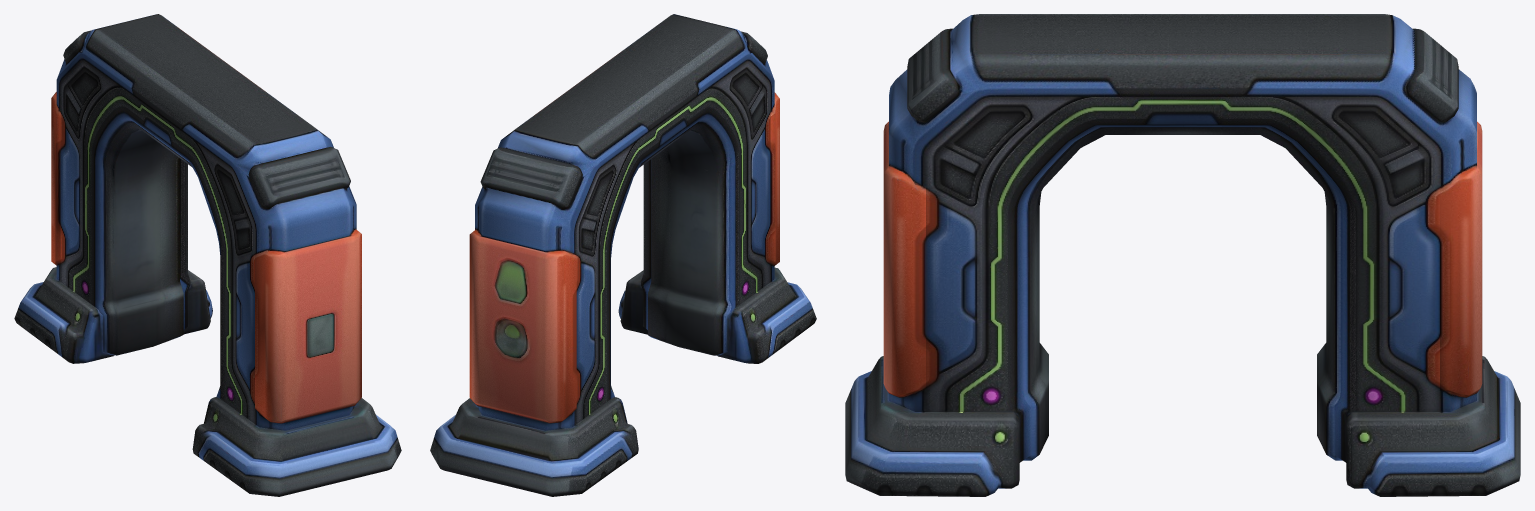
The model's file is tripo_convert_02717a75-bd4c-451a-a5d2-ba9a7d107b7e.fbx.
The picture shows the model from 3 angles, left to right: view 1: azimuth 30°, elevation 25°; view 2: azimuth 150°, elevation 25°; view 3: azimuth 270°, elevation 25°; orthographic projection. The views are drawn at different scales.
Parts seen in each view (by area): view 1: tripo_node_02717a75; view 2: tripo_node_02717a75; view 3: tripo_node_02717a75.
Boxes of the visible parts, x1,y1,x2,y2 form: tripo_node_02717a75: (14, 14, 401, 496); tripo_node_02717a75: (430, 14, 816, 496); tripo_node_02717a75: (845, 14, 1520, 496).
Size of the model in its own units: 0.3535 by 0.6738 by 0.998.
